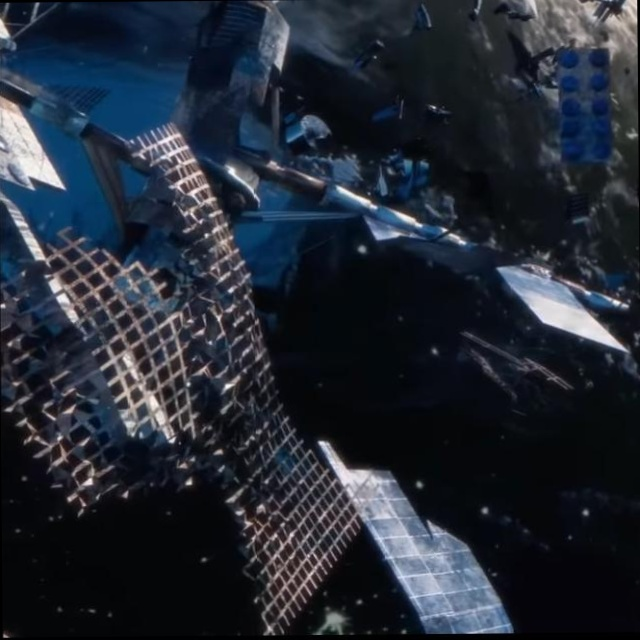large_debris: (0, 0, 619, 366), (0, 124, 364, 640), (313, 426, 524, 640), (542, 37, 630, 177)
